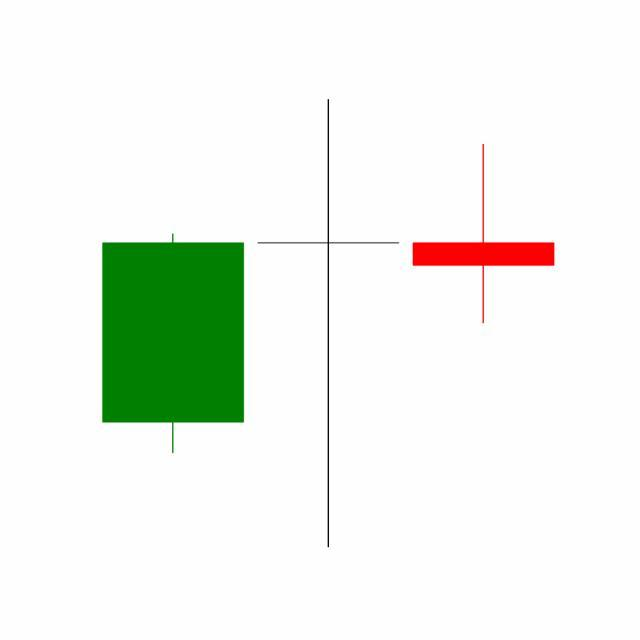Spinning Top: (406, 142, 562, 327)
